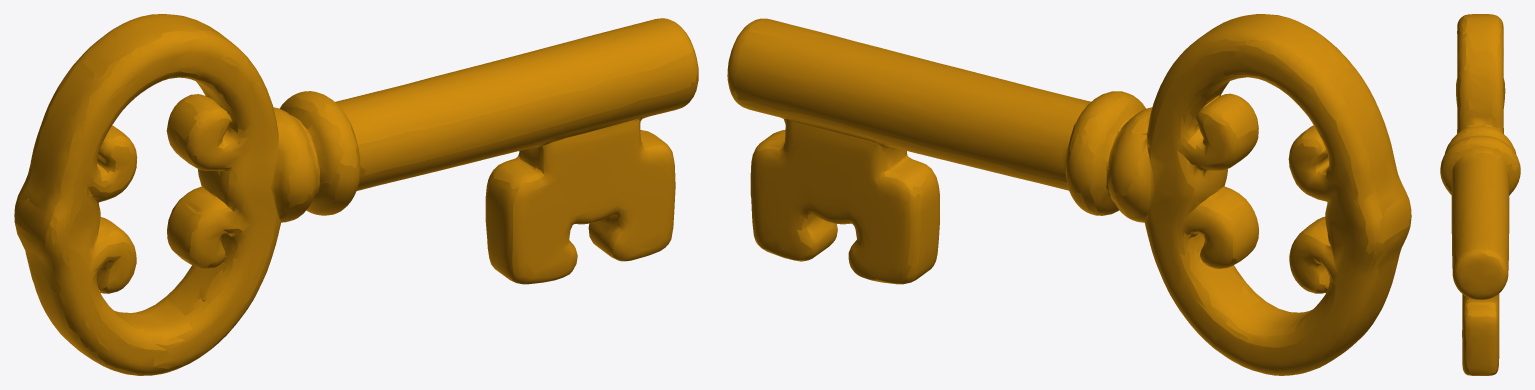
The model's file is i-key.glb.
3 renders of one model, left to right at view 1: azimuth 30°, elevation 25°; view 2: azimuth 150°, elevation 25°; view 3: azimuth 270°, elevation 25°, orthographic. The views are drawn at different scales.
Visible parts, largest first — view 1: geometry_0; view 2: geometry_0; view 3: geometry_0.
Part boxes in pixels (x1,y1,x2,y2): geometry_0: (14,14,698,375); geometry_0: (727,14,1411,375); geometry_0: (1440,14,1520,375).
Bounding box in the file's own units: 0.085 × 0.0426 × 0.0148.
Materials: 1 (1 with a texture image).
